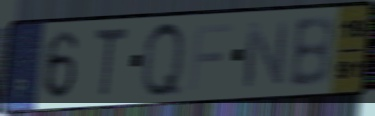6: (42, 28, 83, 103)
B: (286, 13, 336, 90)
F: (186, 20, 235, 94)
N: (241, 18, 291, 91)
Q: (141, 18, 187, 101)
T: (91, 25, 131, 101)
